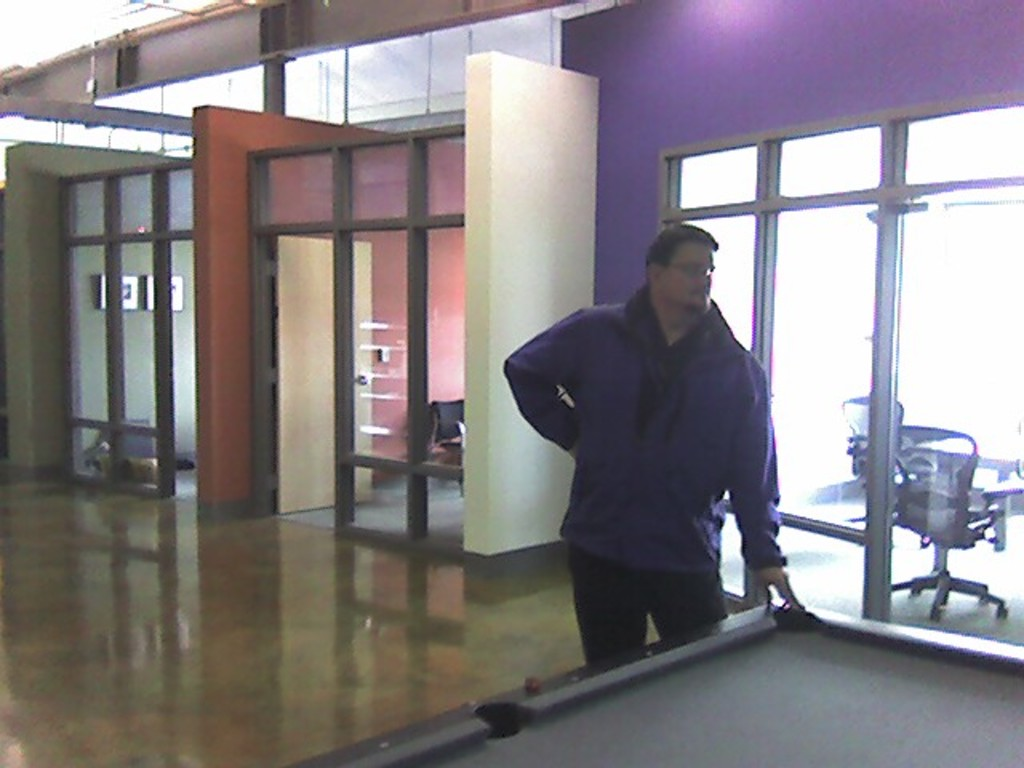Window: (886, 112, 1022, 627), (282, 0, 621, 123), (82, 62, 259, 115)
